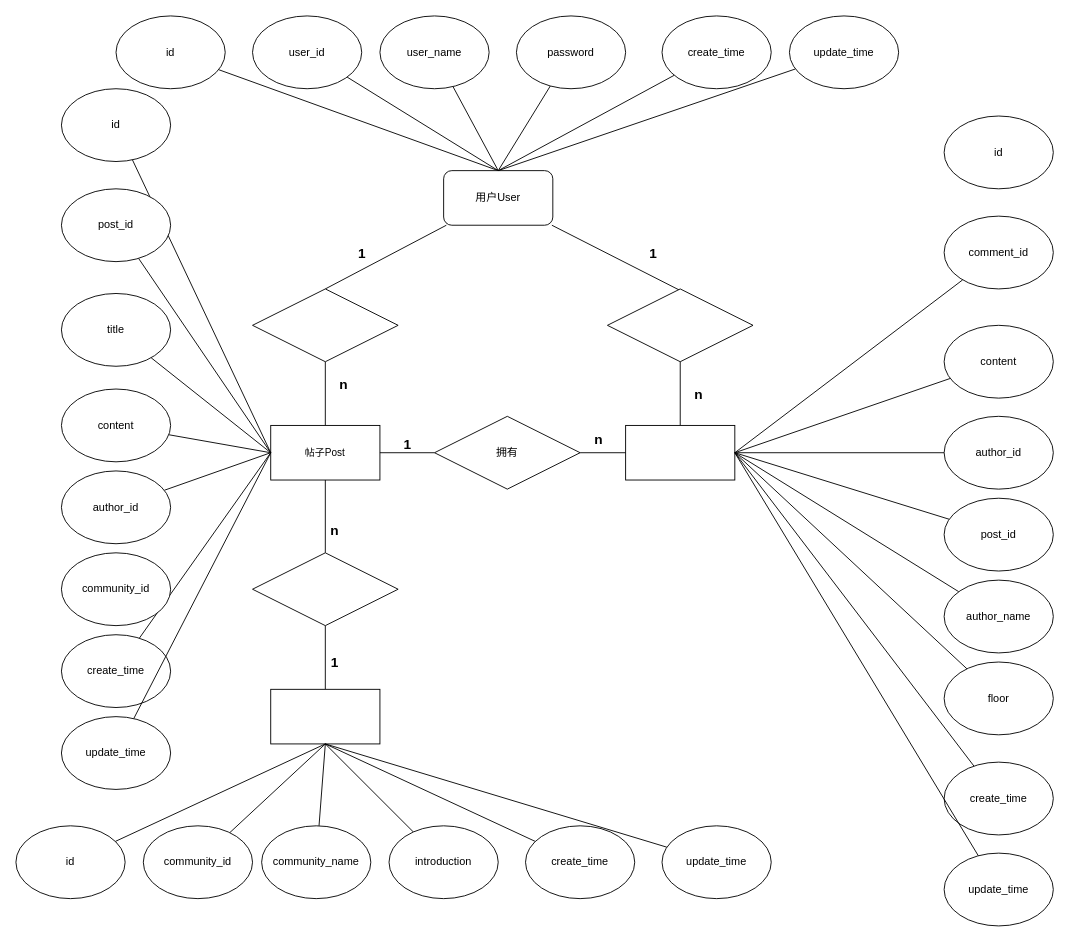
This 1069x942 diagram has some shape labels left out. The centre of each missing label's shape, as x and y in pixels:
"发布" belongs at (x=325, y=325).
"发表" belongs at (x=680, y=325).
"属于" belongs at (x=325, y=589).
"社区Community" belongs at (x=325, y=716).
"评论Comment" belongs at (x=680, y=452).
